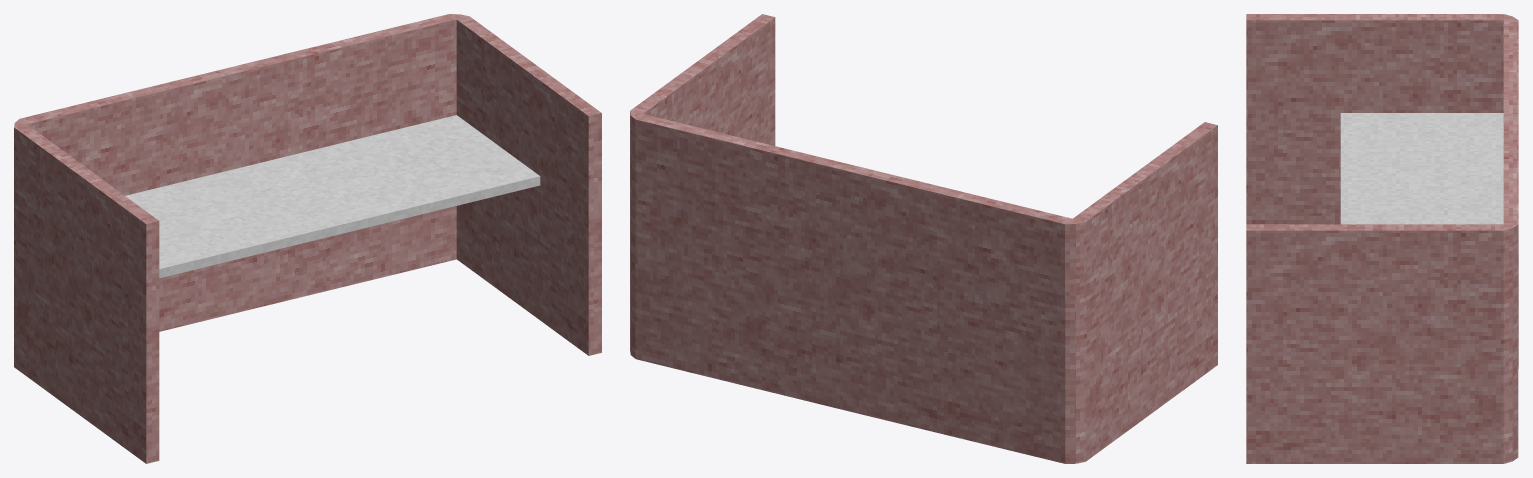
File: divider_full_c_desk_red.glb
3 views of the same model, side by side, from view 1: azimuth 30°, elevation 25°; view 2: azimuth 150°, elevation 25°; view 3: azimuth 270°, elevation 25° (orthographic). The views are drawn at different scales.
Parts seen in each view (by area): view 1: divider_full_c_desk_red; view 2: divider_full_c_desk_red; view 3: divider_full_c_desk_red.
Boxes of the visible parts, x1=… form: divider_full_c_desk_red: x1=14, y1=14, x2=601, y2=463; divider_full_c_desk_red: x1=630, y1=14, x2=1217, y2=463; divider_full_c_desk_red: x1=1246, y1=14, x2=1518, y2=463.
Size of the model in its own units: 2.99 by 1.5 by 1.59.
1 material, 1 textured.
